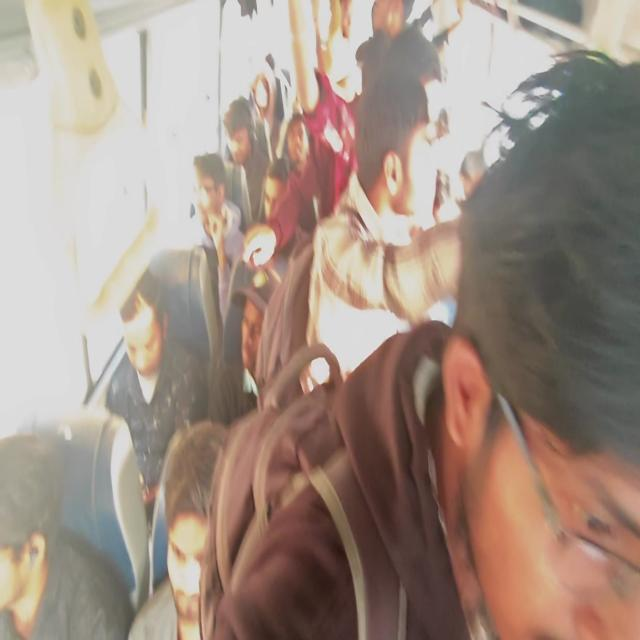person: (443, 98, 640, 640), (143, 443, 271, 640), (362, 74, 478, 282), (0, 416, 91, 638), (225, 232, 295, 397), (398, 14, 466, 150), (110, 276, 183, 392), (177, 136, 227, 223), (221, 96, 266, 172), (264, 164, 301, 240), (281, 106, 320, 176), (238, 72, 284, 130), (362, 0, 405, 49), (351, 29, 381, 86), (334, 0, 356, 50), (262, 39, 288, 75)
